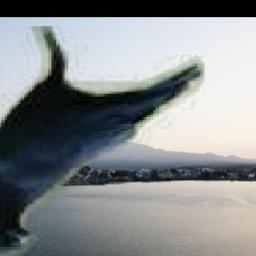Crow: (0, 26, 205, 256)
